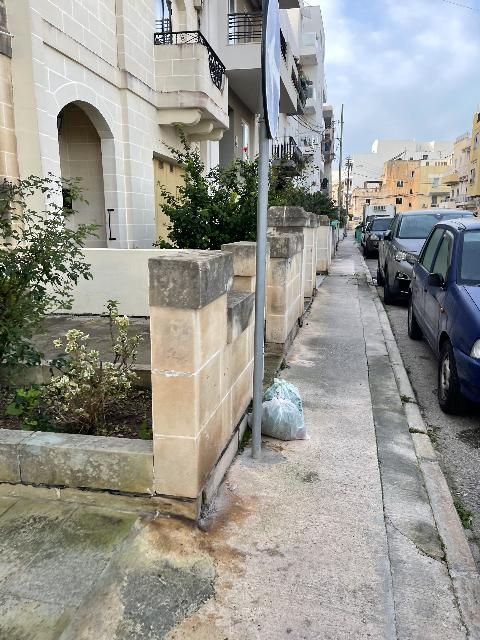Organic -White-: (262, 395, 308, 440), (263, 378, 303, 421)
